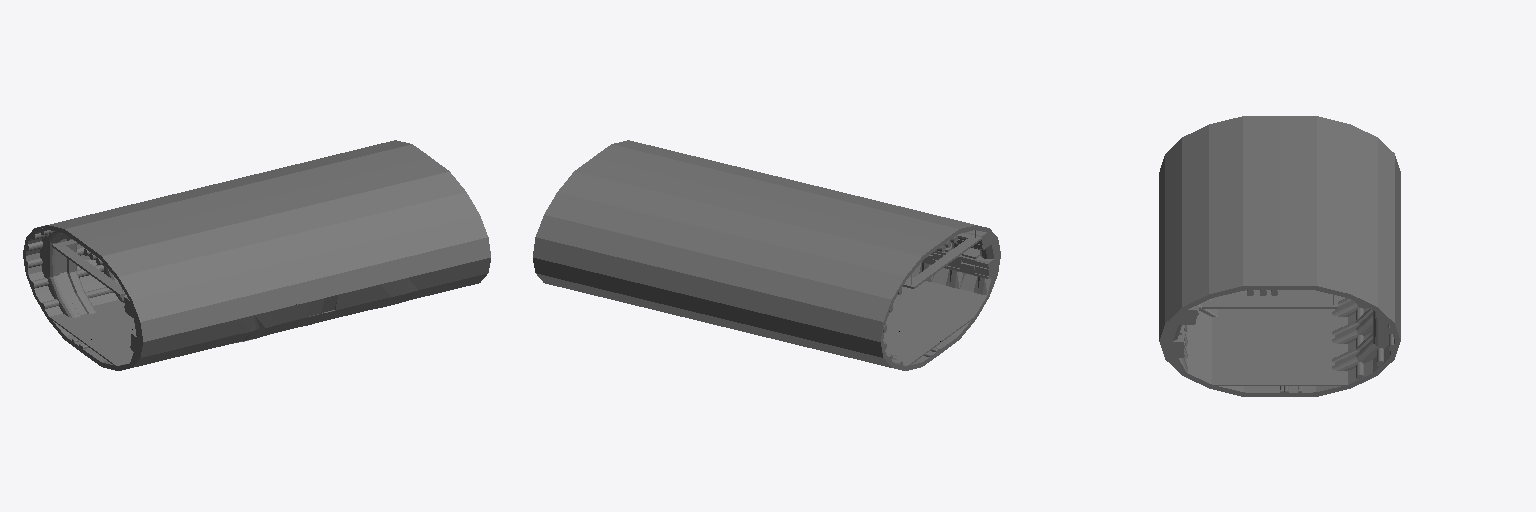
File: HallwayMain.obj
3 views of the same model, side by side, from view 1: azimuth 30°, elevation 25°; view 2: azimuth 150°, elevation 25°; view 3: azimuth 270°, elevation 25° (orthographic).
Visible parts, largest first — view 1: OvalHallwayCase, Hanging_Frame; view 2: OvalHallwayCase, Hanging_Frame; view 3: OvalHallwayCase, Hanging_Frame.
Part boxes in pixels (x1,y1,x2,y2): OvalHallwayCase: (23,140,490,370); Hanging_Frame: (52,240,125,296); OvalHallwayCase: (533,140,1000,370); Hanging_Frame: (903,230,981,288); OvalHallwayCase: (1159,116,1400,396); Hanging_Frame: (1202,294,1337,308).
Bounding box in the file's own units: 26.79 × 8.14 × 15.97.